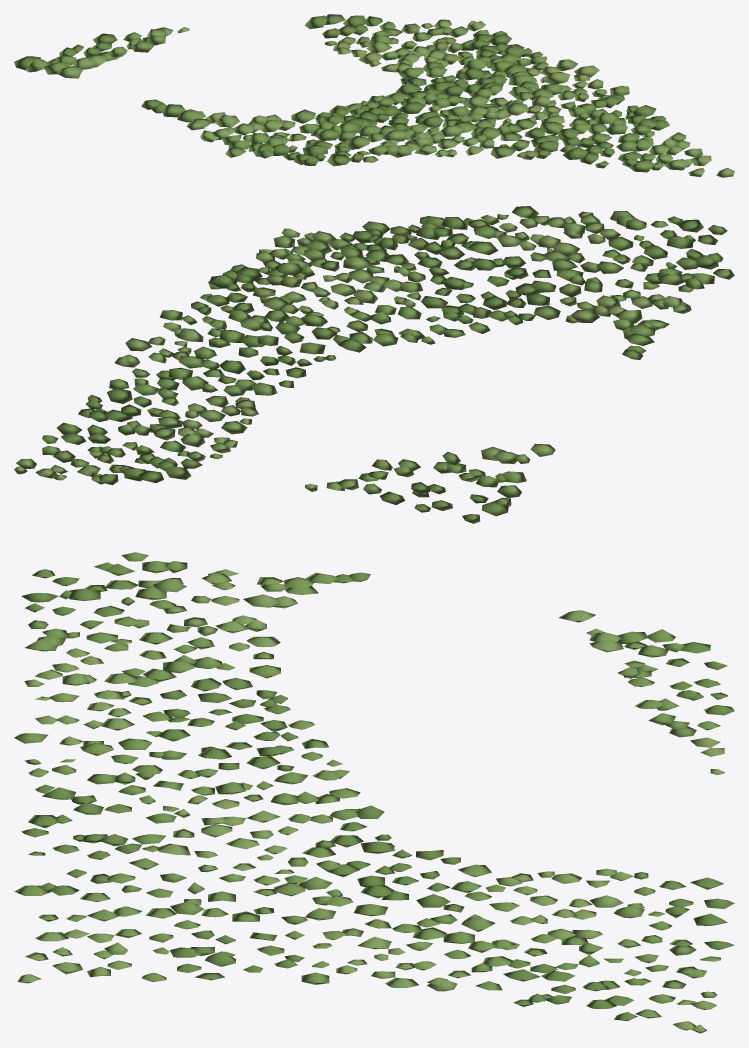
The model's file is canopy-1-3--5.glb.
3 renders of one model, top to bottom at view 1: azimuth 30°, elevation 25°; view 2: azimuth 150°, elevation 25°; view 3: azimuth 270°, elevation 25°, orthographic. The views are drawn at different scales.
Bounding box in the file's own units: 515 × 160 × 520.
Materials: 1 (1 with a texture image).
